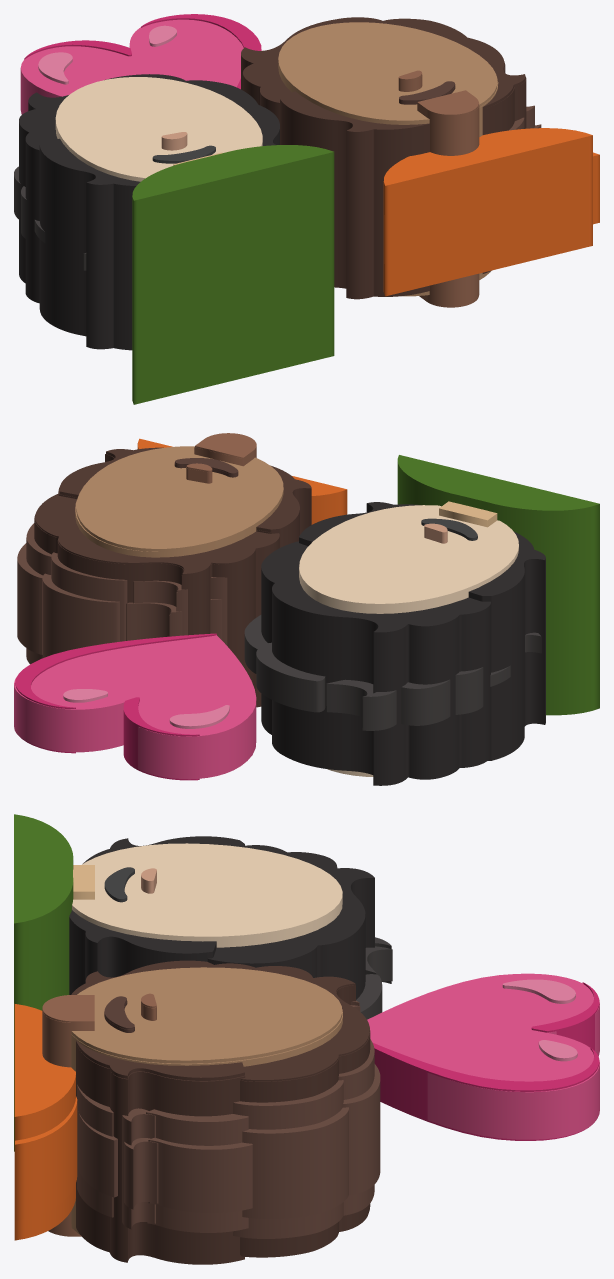
The model's file is emoji_u1f9d1_1f3fb_200d_2764_200d_1f9d1_1f3fd.glb.
3 renders of one model, top to bottom at view 1: azimuth 30°, elevation 25°; view 2: azimuth 150°, elevation 25°; view 3: azimuth 270°, elevation 25°, orthographic. The views are drawn at different scales.
Visible parts, largest first — view 1: emoji_u1f9d1_1f3fb_200d_2764_200d_1f9d1_1f3fd; view 2: emoji_u1f9d1_1f3fb_200d_2764_200d_1f9d1_1f3fd; view 3: emoji_u1f9d1_1f3fb_200d_2764_200d_1f9d1_1f3fd.
Part boxes in pixels (x1,y1,x2,y2): emoji_u1f9d1_1f3fb_200d_2764_200d_1f9d1_1f3fd: [14, 14, 599, 404]; emoji_u1f9d1_1f3fb_200d_2764_200d_1f9d1_1f3fd: [14, 433, 599, 785]; emoji_u1f9d1_1f3fb_200d_2764_200d_1f9d1_1f3fd: [14, 814, 599, 1264].
Size of the model in its own units: 0.0345 by 0.0144 by 0.0335.
